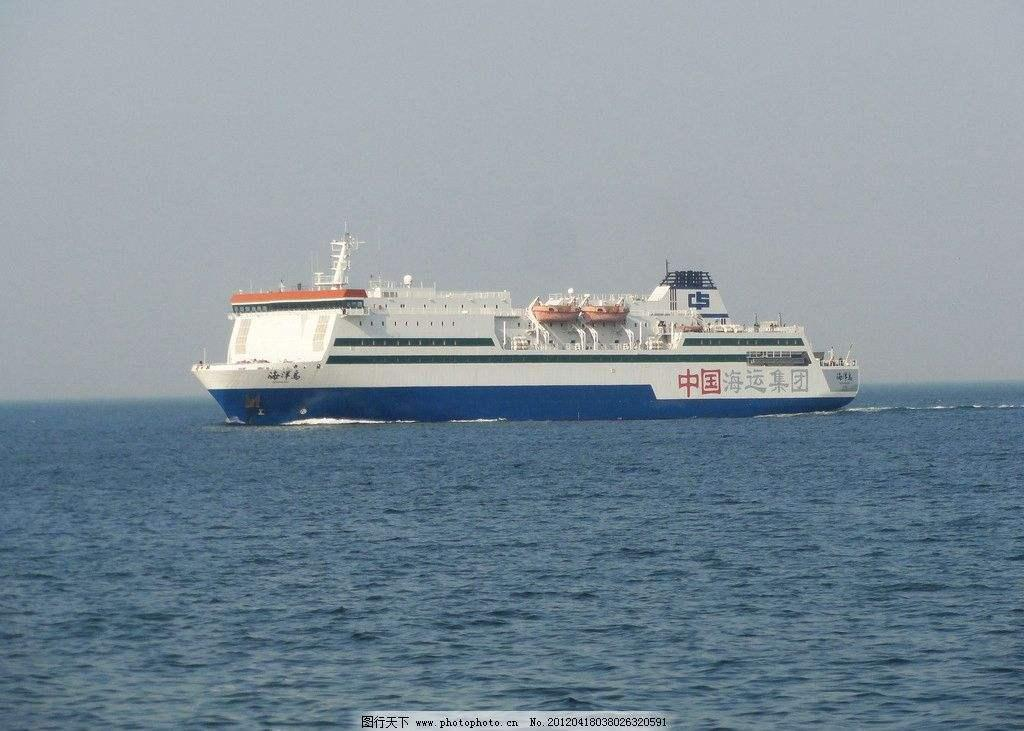Cargoship: (190, 220, 869, 419)
